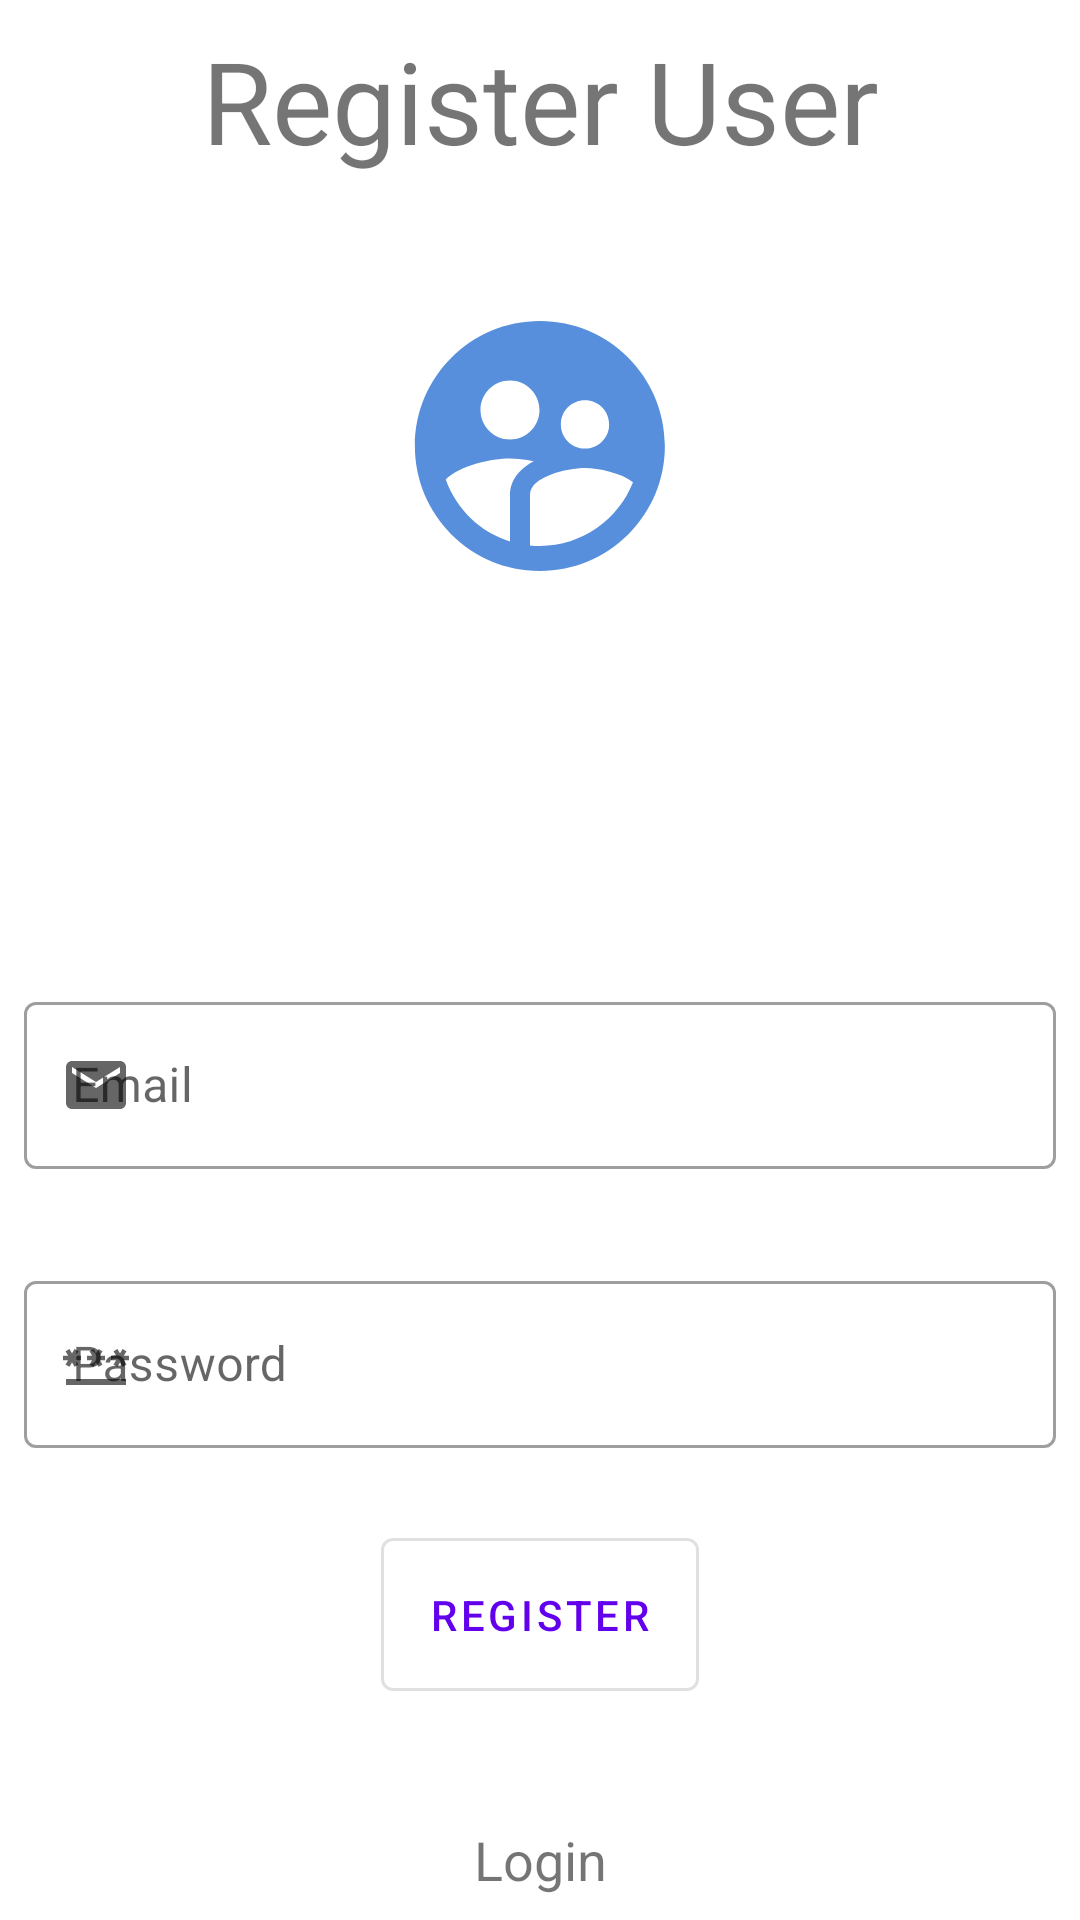

Named icons in this screenshot (1080 x 1920) and their centers, (x=x, y=y):
supervised user circle: (x=539, y=446)
